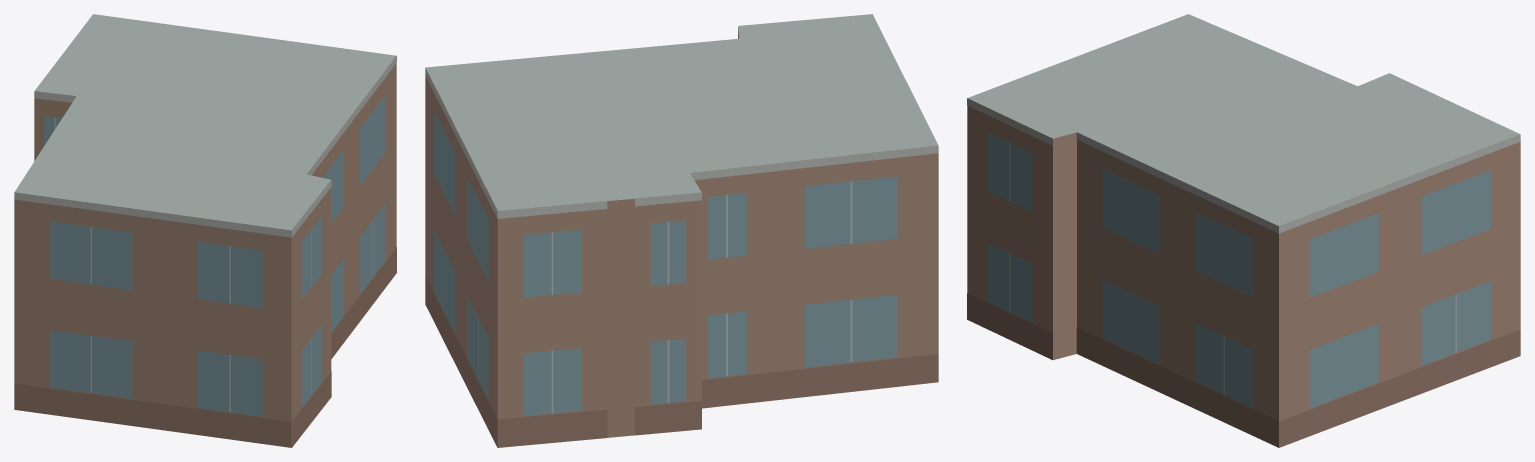
The model's file is survey-upis-32639578.glb.
3 renders of one model, left to right at view 1: azimuth 30°, elevation 25°; view 2: azimuth 150°, elevation 25°; view 3: azimuth 270°, elevation 25°, orthographic. The views are drawn at different scales.
Parts seen in each view (by area): view 1: survey-upis-32639578.tmp; view 2: survey-upis-32639578.tmp; view 3: survey-upis-32639578.tmp.
Boxes of the visible parts, x1,y1,x2,y2 form: survey-upis-32639578.tmp: (14, 14, 396, 447); survey-upis-32639578.tmp: (425, 14, 938, 447); survey-upis-32639578.tmp: (967, 14, 1520, 447).
Size of the model in its own units: 15.21 by 7.4 by 16.76.
